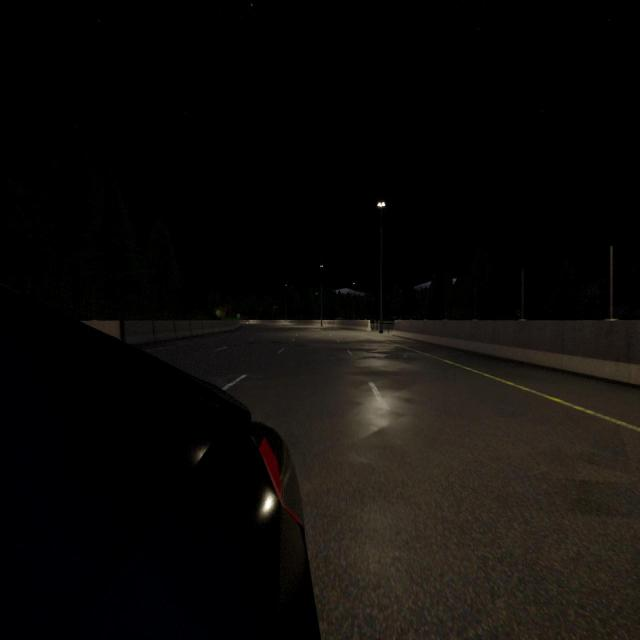Traffic_Signs: (237, 314, 240, 318)
Vehicle: (0, 288, 319, 640)
